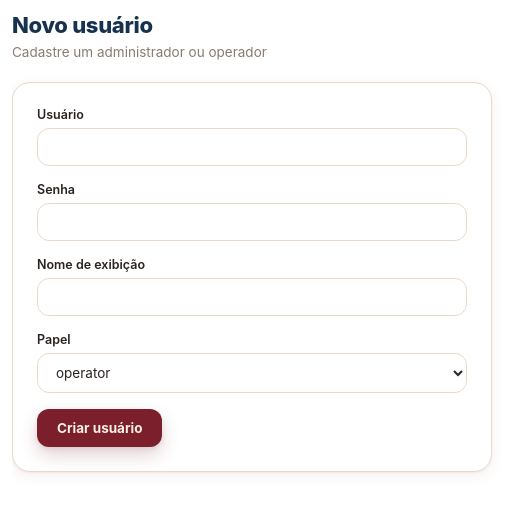
it: UserForm › mostra erro retornado pelo backend
The width and height of the screenshot is (510, 522).
Expected: the button with test id "user-submit" is shown, [37,409,162,447]
Type "op1" into the field with test id "user-username".
click(252, 147); type("op1")  # box [37,128,467,166]
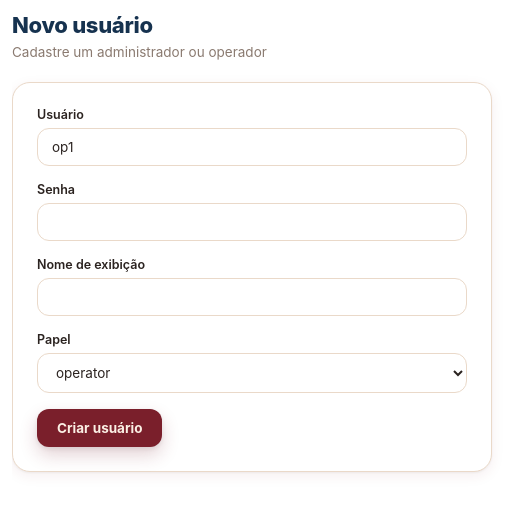
Type "senha-123456" into the password field with test id "user-password".
click(252, 222); type("senha-123456")  # box [37,203,467,241]
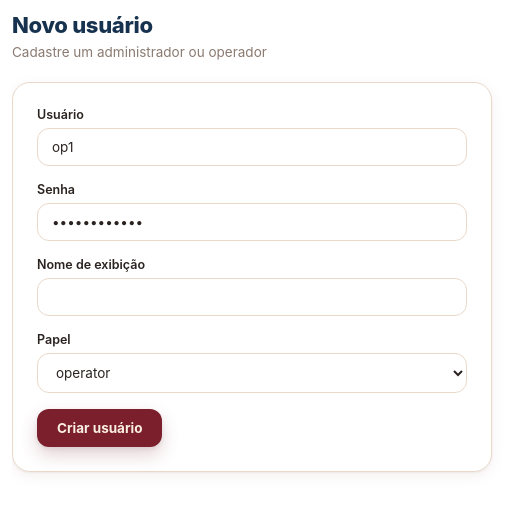
Type "Op Um" into the field with test id "user-displayname".
click(252, 297); type("Op Um")  # box [37,278,467,316]
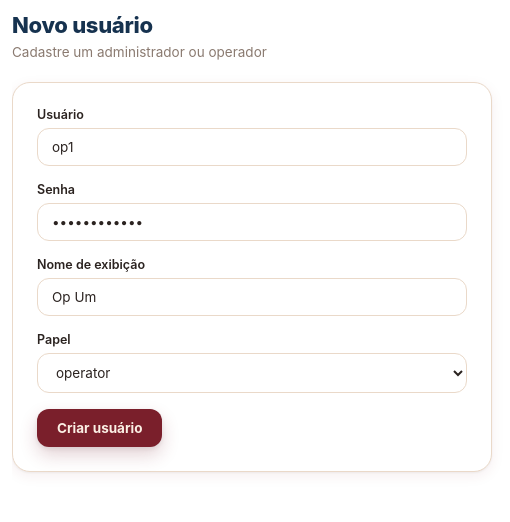
Click the button with test id "user-submit".
click(100, 428)  # box [37,409,162,447]
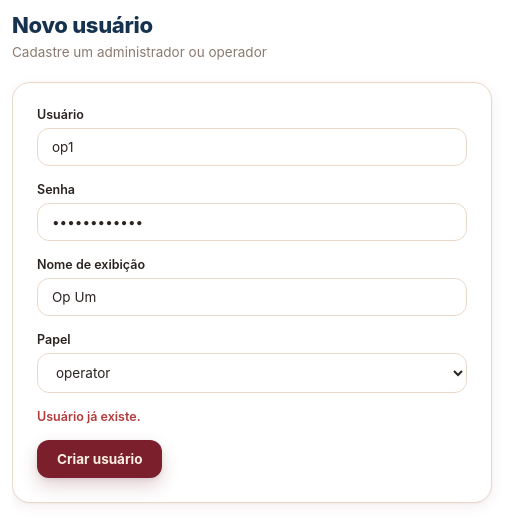
Result: the text "Usuário já existe." is shown at [37,409,141,424]
